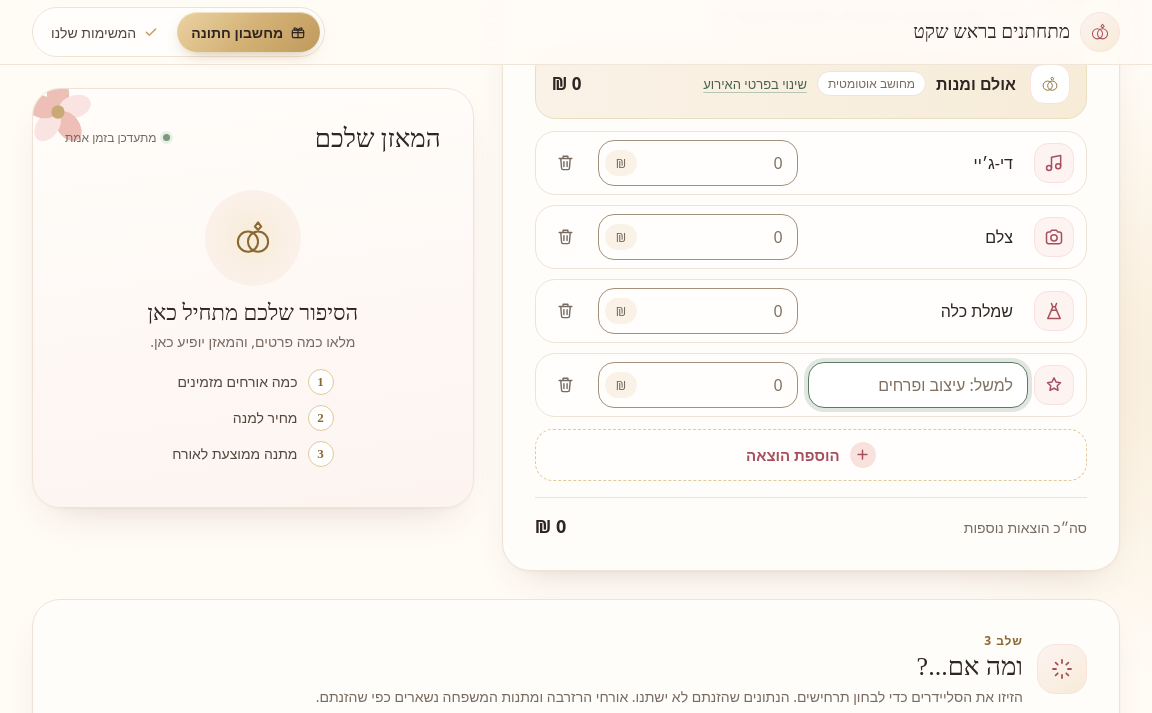
Expense management › requires a name once an expense has an amount
Earlier steps of the test are not shown.
(page scrolled)
Expected: the text "יש להזין שם להוצאה" is not shown
Step 1. Type "500" into the field named "סכום עבור ללא שם (₪)" → (717, 385), box top-left (637, 364), bottom-right (797, 406)
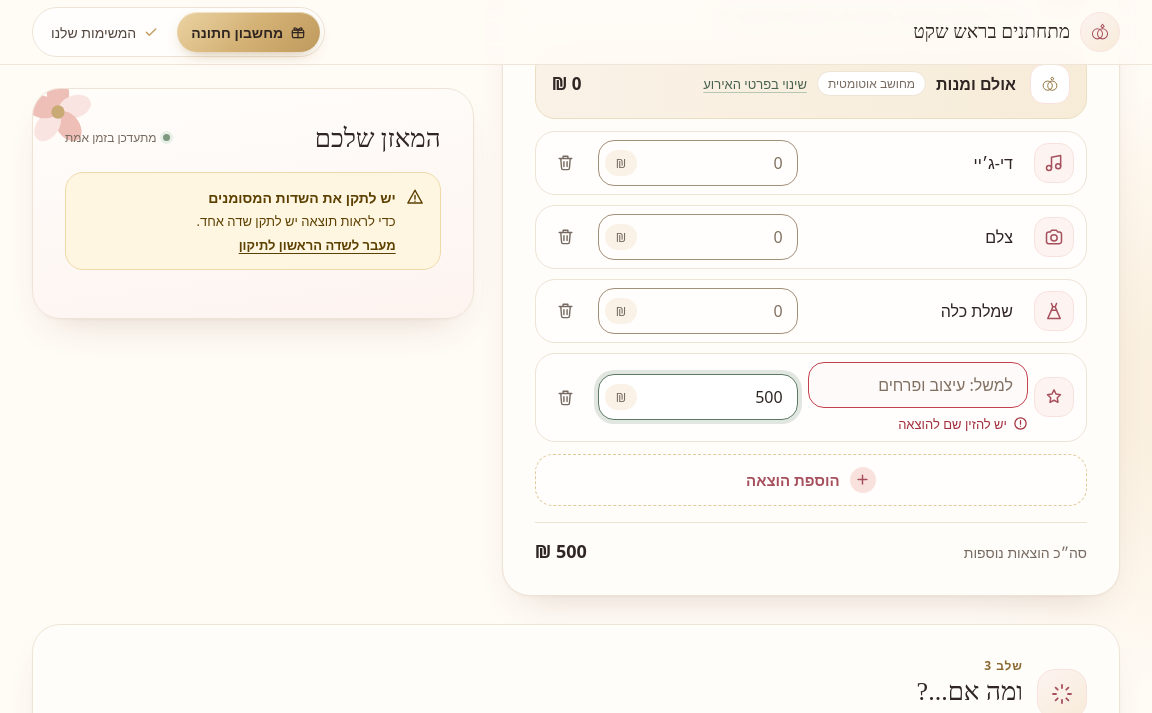
Result: the text "יש להזין שם להוצאה" is shown at top-left (898, 415), bottom-right (1007, 433)
